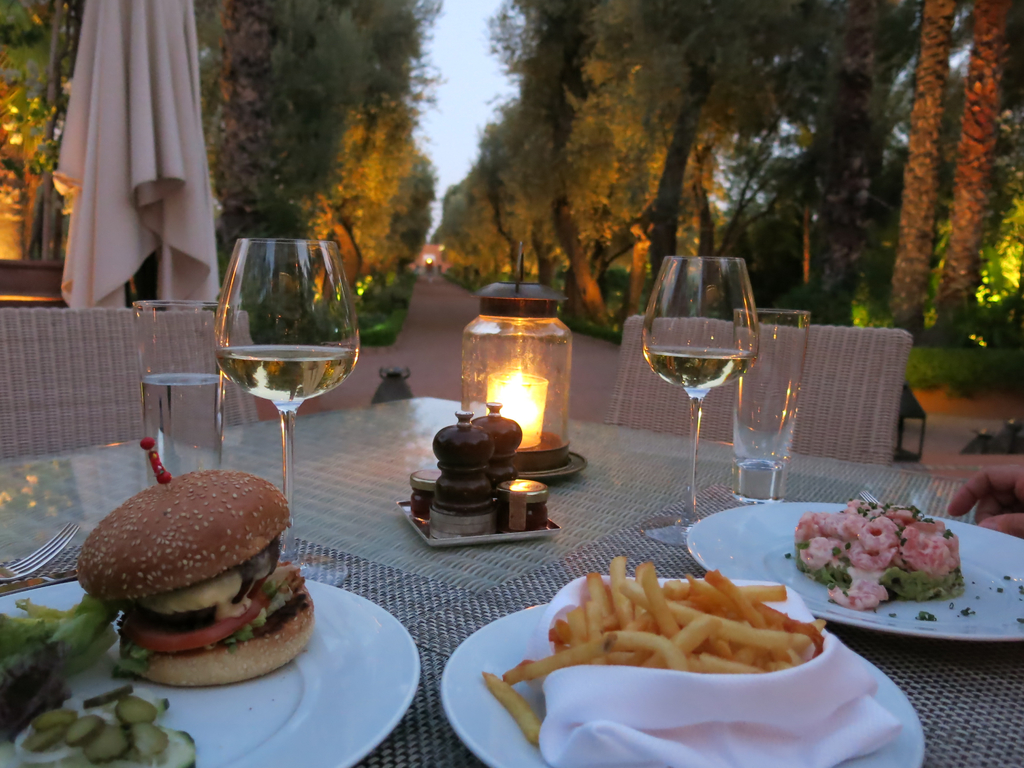Hamburger: (74, 469, 324, 682)
